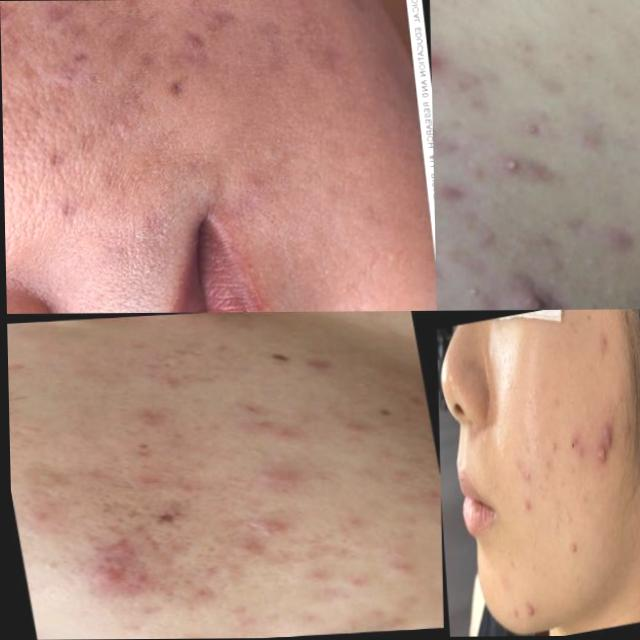8: (252, 465, 315, 498), (87, 557, 133, 595), (245, 512, 303, 540), (381, 555, 433, 583), (261, 426, 302, 448), (567, 530, 590, 568), (519, 492, 542, 527), (568, 426, 585, 464)
9: (125, 407, 177, 433), (496, 145, 528, 184), (431, 37, 447, 77), (522, 600, 543, 630), (519, 460, 538, 491), (549, 432, 564, 466)
blackheads: (92, 0, 173, 65), (147, 493, 191, 532), (129, 527, 171, 561), (520, 284, 559, 311), (594, 446, 608, 482), (604, 412, 616, 453)
